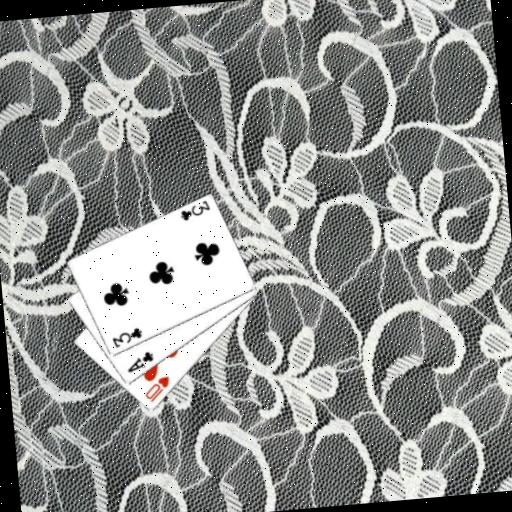10H: (141, 373, 172, 404)
3C: (108, 324, 145, 350), (177, 197, 213, 223)
AC: (122, 348, 156, 375)
